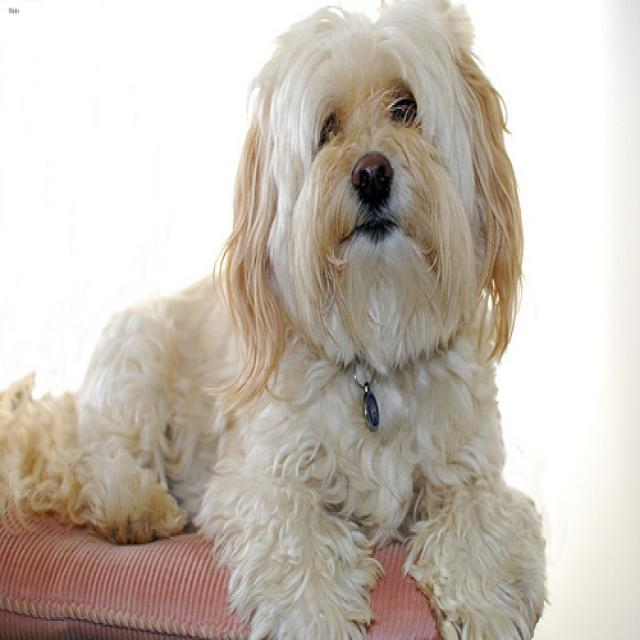dog-havanese: (1, 2, 558, 636)
